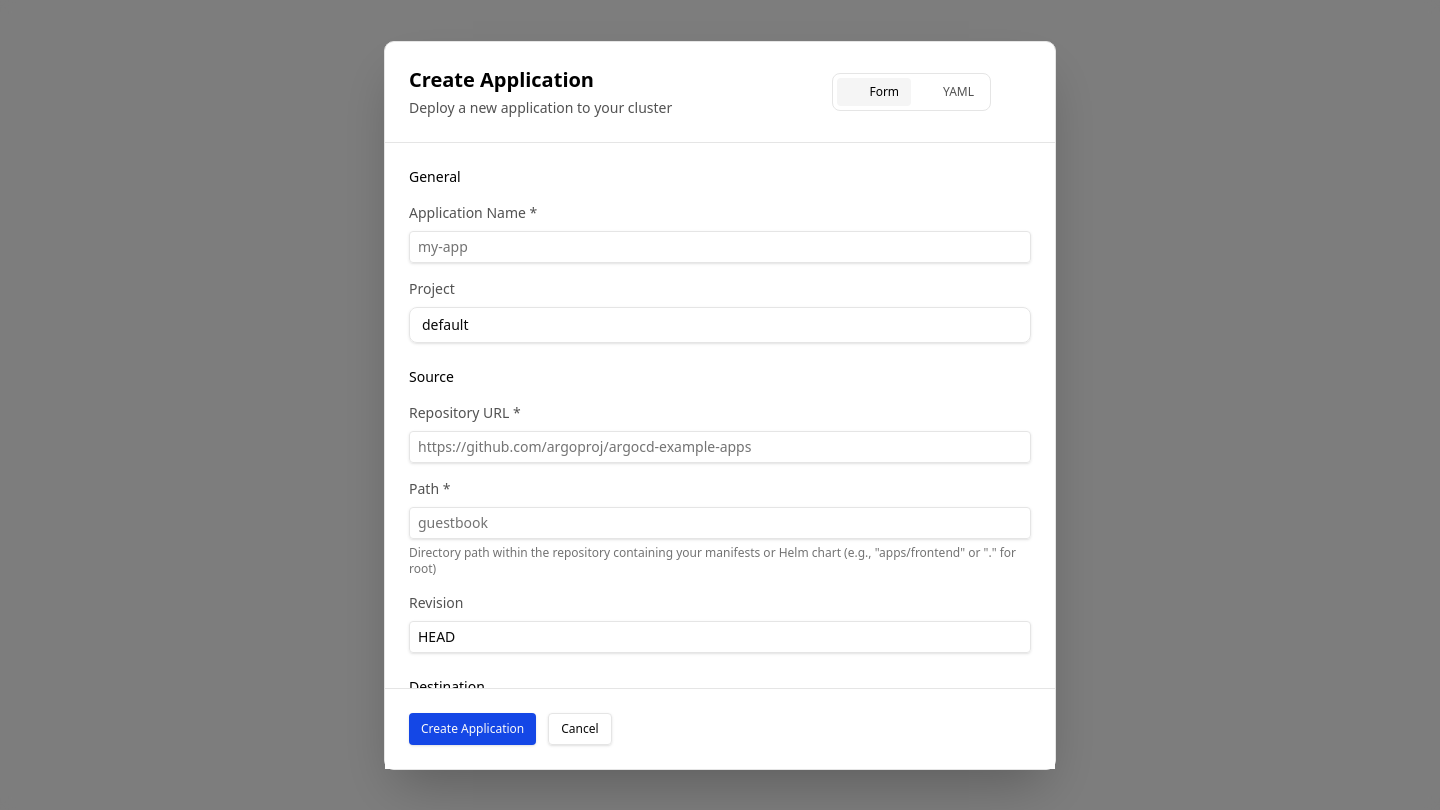
it: CreateApplicationPanel › should switch between Form and YAML modes
Check: the field with placeholder "my-app" is shown, box [409,230,1031,262]
Click YAML mode button
Click the button "YAML" at (949, 92), box [911,78,986,106]
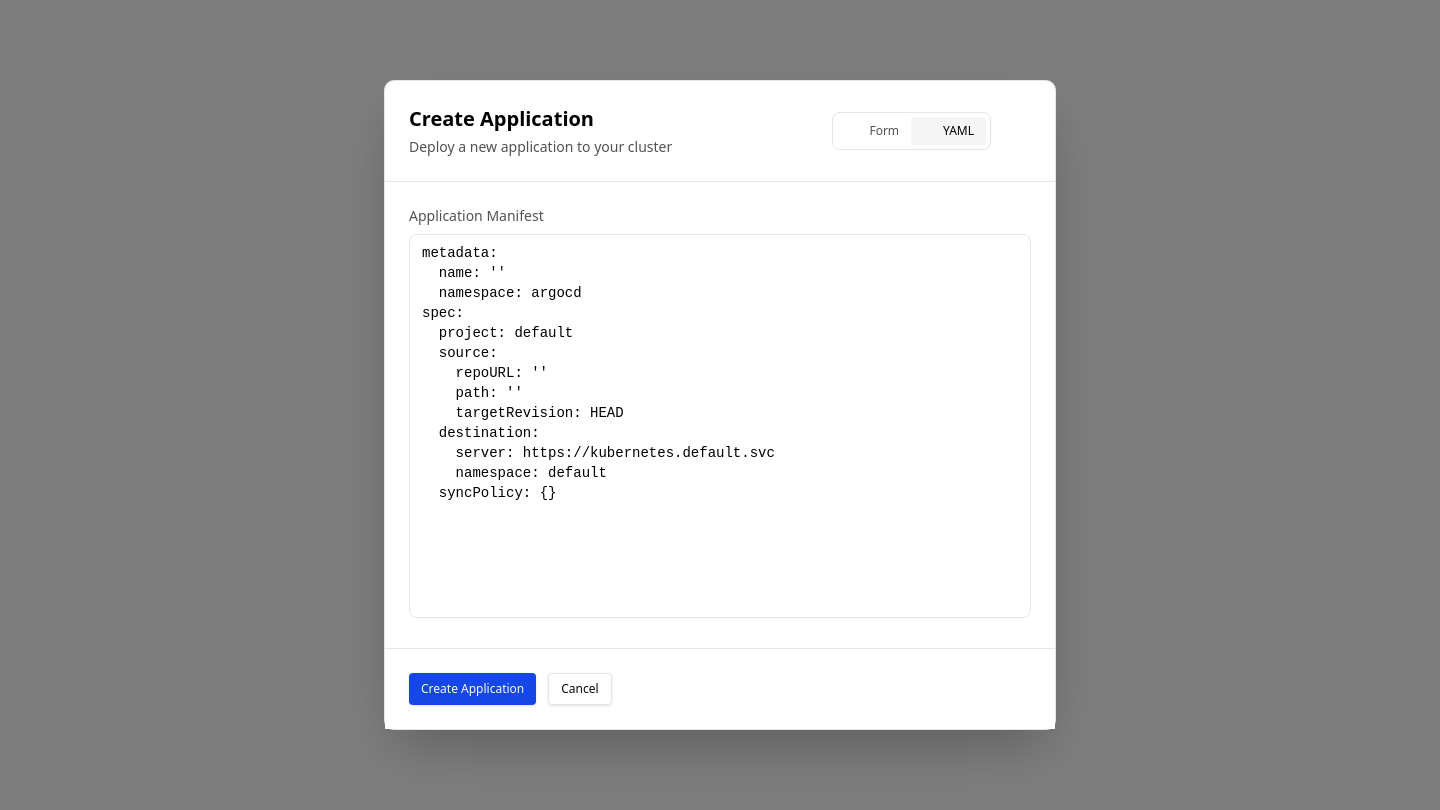
Check: the text box with placeholder "metadata:" is shown, box [409,234,1031,618]
Click Form mode button
Click the button "Form" at (874, 131), box [837,117,911,145]
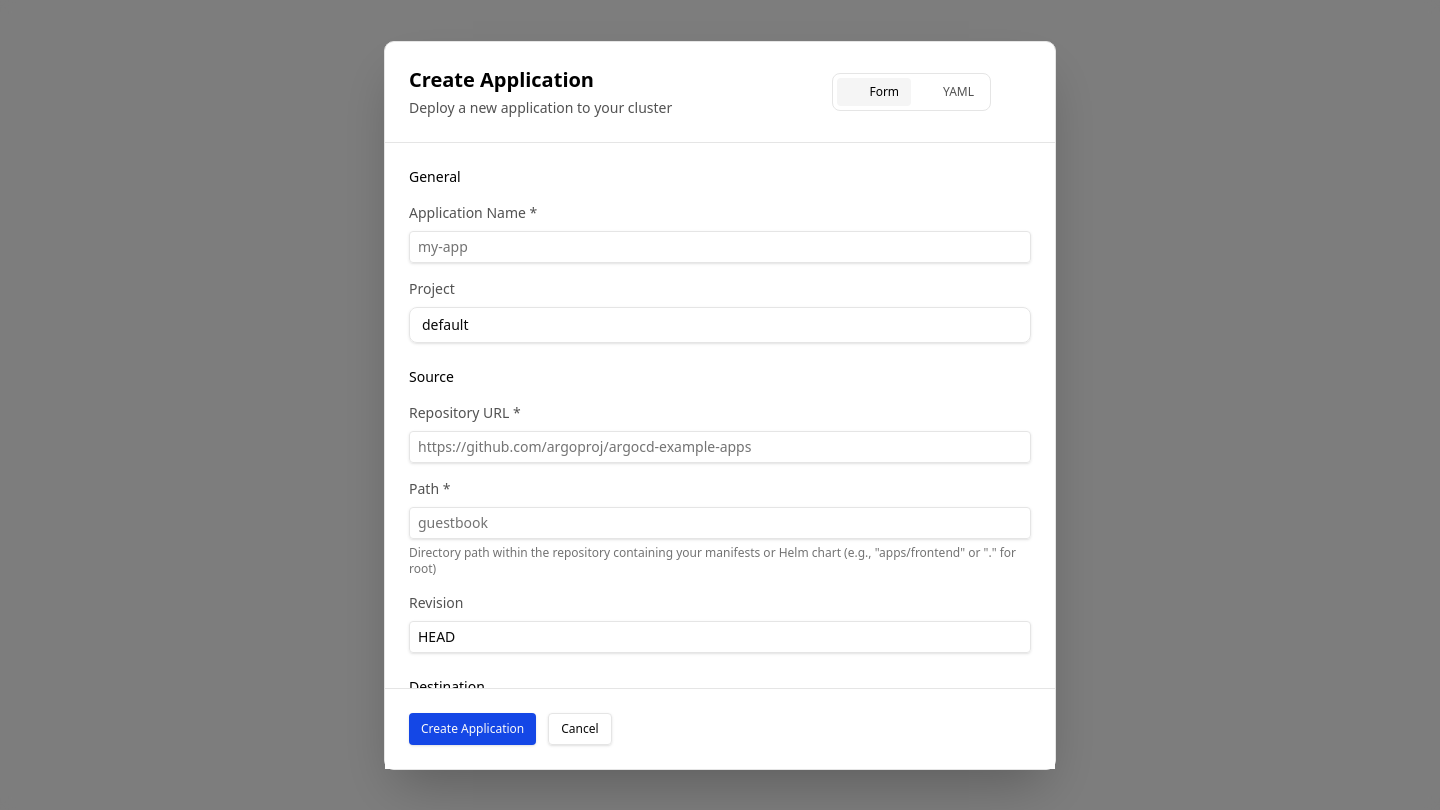
Check: the field with placeholder "my-app" is shown, box [409,230,1031,262]
